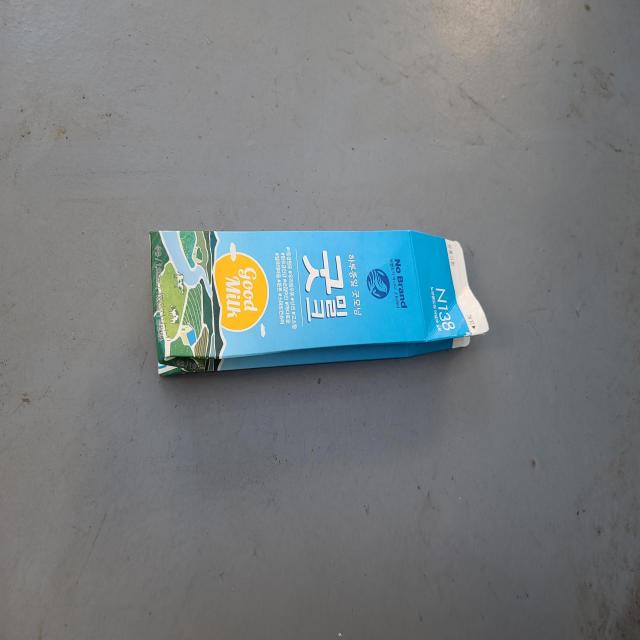paperpack: (150, 230, 489, 375)
